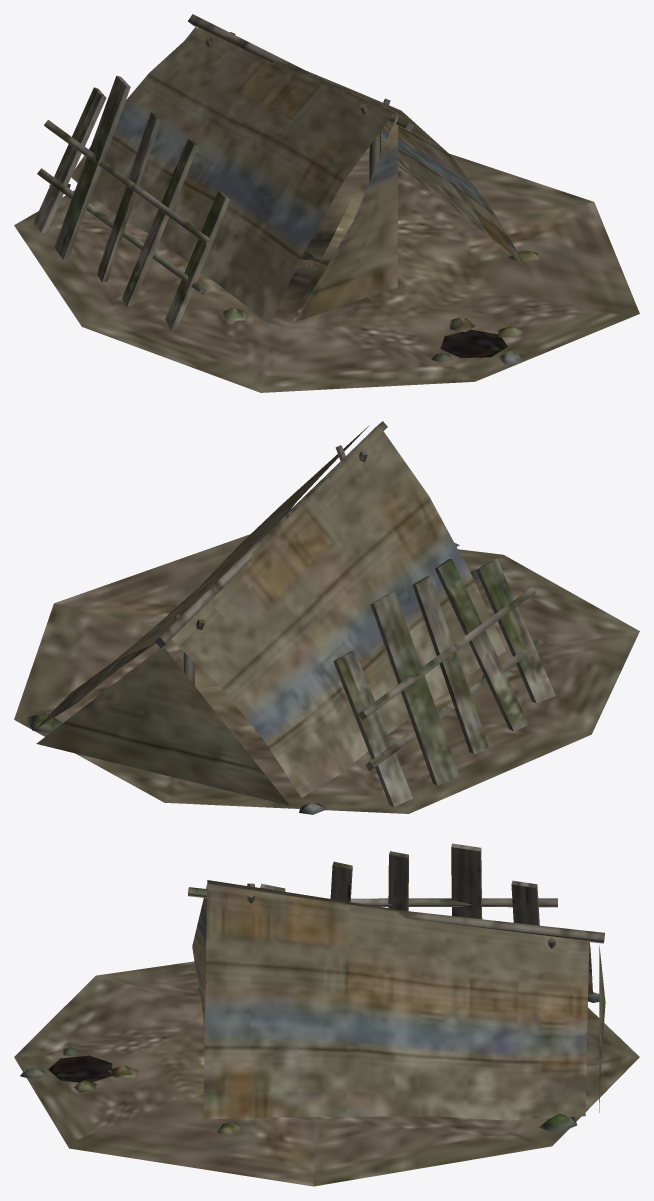
The model's file is kit_lean_to_far.glb.
3 views of the same model, one above another, from view 1: azimuth 30°, elevation 25°; view 2: azimuth 150°, elevation 25°; view 3: azimuth 270°, elevation 25° (orthographic). The views are drawn at different scales.
Parts seen in each view (by area): view 1: body, sail, door, plank_02, plank_01, plank_04, plank_03, plank_05; view 2: sail, body, plank_02, plank_01, plank_04, plank_03, plank_05; view 3: sail, body, plank_02, plank_03, plank_01, door, plank_04.
Boxes of the visible parts, left/top/right/bottom form: body: left=14, top=14, right=639, bottom=392; sail: left=71, top=27, right=525, bottom=324; door: left=294, top=114, right=397, bottom=322; plank_02: left=54, top=75, right=130, bottom=259; plank_01: left=33, top=87, right=106, bottom=233; plank_04: left=122, top=139, right=198, bottom=306; plank_03: left=97, top=112, right=161, bottom=282; plank_05: left=165, top=191, right=230, bottom=330; sail: left=36, top=425, right=505, bottom=805; body: left=14, top=421, right=639, bottom=814; plank_02: left=370, top=591, right=459, bottom=785; plank_01: left=333, top=650, right=412, bottom=806; plank_04: left=435, top=558, right=528, bottom=731; plank_03: left=412, top=576, right=488, bottom=753; plank_05: left=476, top=558, right=555, bottom=703; sail: left=203, top=880, right=605, bottom=1120; body: left=14, top=883, right=639, bottom=1186; plank_02: left=451, top=843, right=482, bottom=919; plank_03: left=388, top=851, right=408, bottom=910; plank_01: left=511, top=880, right=539, bottom=925; door: left=192, top=884, right=207, bottom=1028; plank_04: left=330, top=861, right=352, bottom=901.
Size of what is drawn, in the model's own units: 4.58 by 1.69 by 5.
2 materials, 2 textured.
